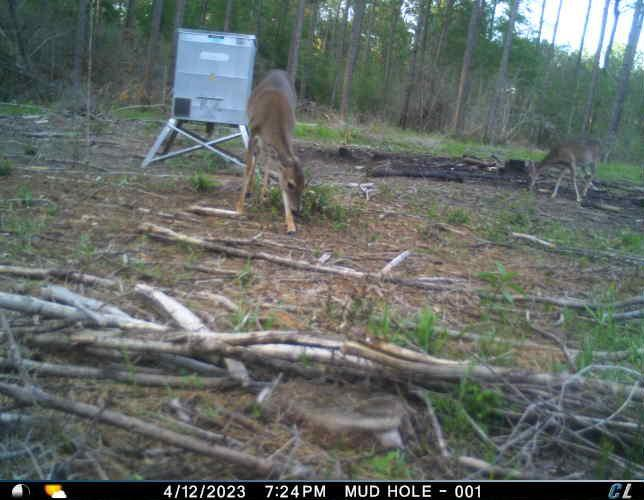Deer: (234, 66, 314, 239), (524, 136, 605, 209)
